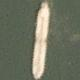ship: (24, 0, 53, 40)
